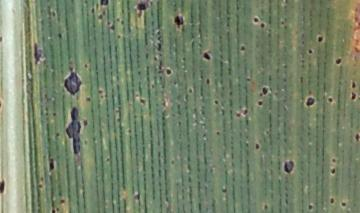tarspot: (64, 106, 81, 156), (62, 65, 81, 98), (29, 40, 46, 66), (135, 1, 152, 19), (282, 158, 296, 174), (172, 14, 185, 29), (303, 95, 316, 108), (200, 50, 212, 62), (1, 177, 7, 195), (48, 157, 55, 171), (352, 7, 359, 21), (164, 66, 172, 78), (262, 85, 269, 98), (350, 90, 357, 102), (353, 21, 360, 33), (138, 96, 147, 105), (353, 132, 360, 143), (81, 118, 89, 127), (326, 95, 334, 104), (133, 191, 140, 201), (316, 34, 323, 44), (155, 42, 162, 52), (98, 1, 109, 7), (329, 166, 337, 174), (238, 44, 246, 52), (50, 9, 58, 17), (89, 6, 97, 14), (306, 203, 314, 211), (352, 45, 360, 53), (38, 175, 45, 184), (350, 80, 357, 89), (253, 142, 260, 151), (252, 15, 259, 24), (221, 185, 227, 195), (152, 53, 158, 63), (267, 73, 273, 83), (335, 57, 342, 65), (256, 99, 264, 106), (259, 21, 266, 29), (242, 108, 249, 116), (56, 31, 63, 39), (96, 12, 103, 20), (339, 201, 347, 208), (143, 51, 150, 59), (58, 198, 67, 204), (85, 95, 91, 104), (307, 47, 313, 56), (234, 111, 241, 118), (126, 128, 133, 135), (156, 35, 163, 42), (36, 183, 44, 189), (187, 86, 193, 94), (109, 22, 115, 30), (115, 33, 123, 39), (329, 197, 335, 205), (298, 75, 304, 83), (51, 111, 58, 117), (330, 157, 336, 164), (97, 88, 104, 94), (279, 19, 285, 26), (205, 77, 210, 85), (55, 131, 61, 137), (83, 62, 88, 69), (213, 99, 220, 104), (115, 117, 122, 122), (92, 136, 97, 143), (180, 56, 187, 61), (259, 90, 263, 98), (134, 92, 139, 98), (106, 20, 111, 26), (119, 19, 124, 25), (99, 94, 104, 100), (105, 156, 110, 162), (83, 139, 88, 145), (263, 203, 268, 209), (156, 29, 161, 35), (50, 209, 57, 213), (1, 99, 3, 113), (1, 35, 5, 42), (245, 76, 250, 81), (283, 1, 288, 6), (215, 129, 219, 135), (115, 16, 119, 22)
